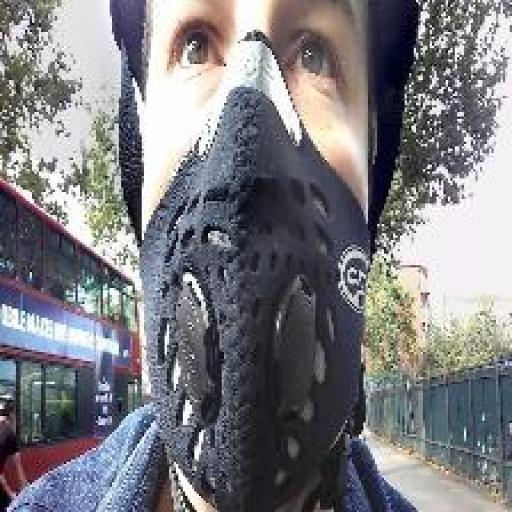mask: (122, 32, 390, 503)
